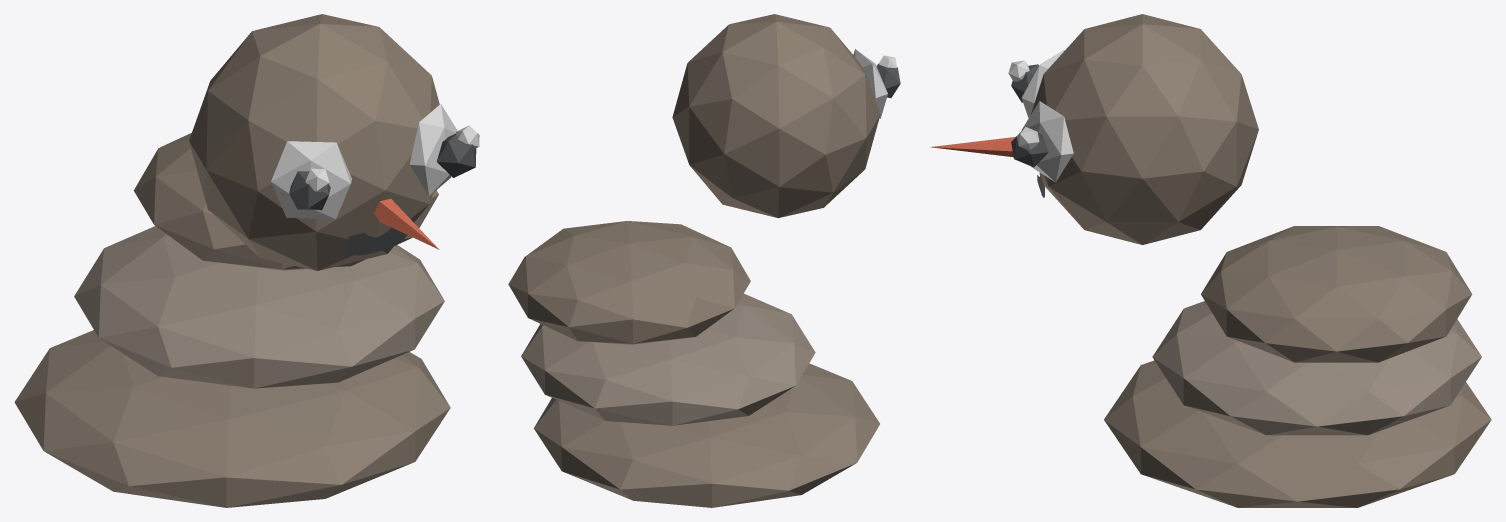
Rendered from cyclocorus-lineatus.glb.
3 renders of one model, left to right at view 1: azimuth 30°, elevation 25°; view 2: azimuth 150°, elevation 25°; view 3: azimuth 270°, elevation 25°, orthographic. The views are drawn at different scales.
Parts seen in each view (by area): view 1: coil0, head, coil1, coil2, face-eye-r, face-eye-l, face-pupil-l, tongue, face-smile, face-pupil-r; view 2: head, coil0, coil1, coil2, face-eye-r, face-pupil-r; view 3: head, coil2, coil0, coil1, face-eye-l, tongue, face-eye-r, face-pupil-l.
Boxes of the visible parts, x1,y1,x2,y2 form: coil0: [14, 330, 450, 507]; head: [189, 14, 439, 270]; coil1: [74, 226, 444, 388]; coil2: [133, 133, 438, 270]; face-eye-r: [271, 141, 351, 219]; face-eye-l: [409, 104, 457, 196]; face-pupil-l: [436, 133, 476, 177]; tongue: [374, 198, 439, 249]; face-smile: [346, 227, 407, 255]; face-pupil-r: [289, 171, 330, 210]; head: [672, 14, 880, 218]; coil0: [534, 363, 879, 507]; coil1: [521, 293, 815, 425]; coil2: [508, 221, 750, 344]; face-eye-r: [853, 49, 887, 118]; face-pupil-r: [876, 63, 900, 98]; head: [1031, 14, 1258, 244]; coil2: [1201, 226, 1472, 362]; coil0: [1104, 360, 1491, 507]; coil1: [1152, 301, 1481, 435]; face-eye-l: [1021, 101, 1073, 182]; tongue: [929, 137, 1015, 157]; face-eye-r: [1021, 50, 1064, 118]; face-pupil-l: [1011, 126, 1048, 167].
Size of the model in its own units: 0.42 by 0.5 by 0.58.
